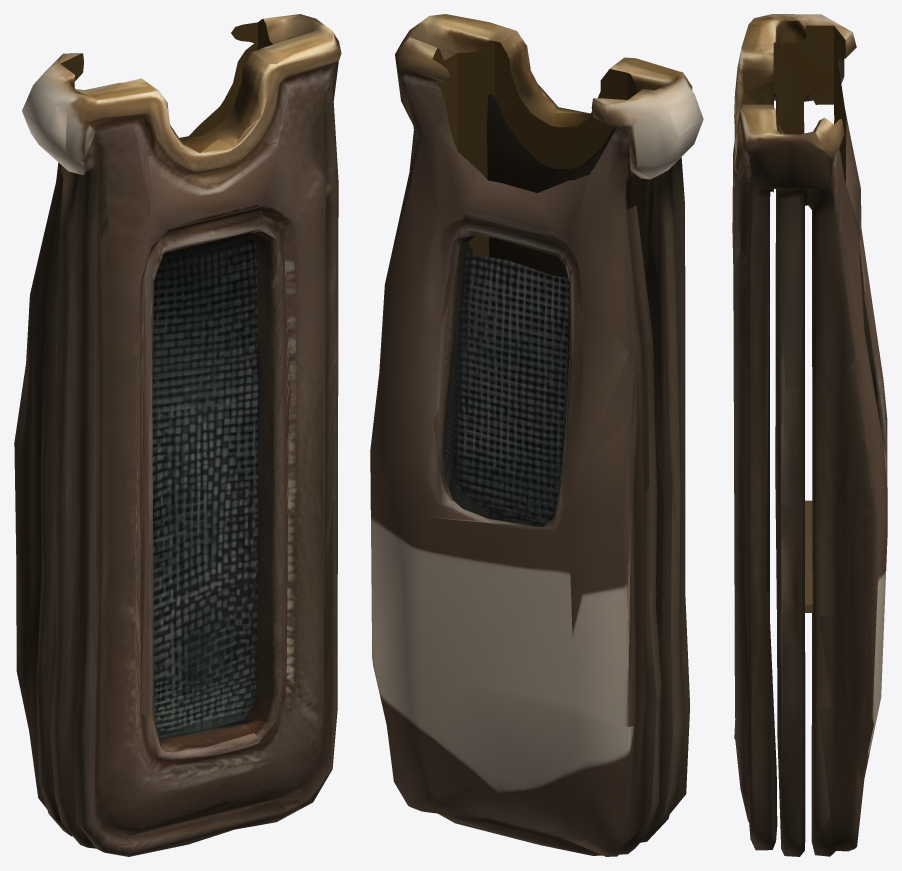
Rendered from FlatSleeve.fbx.
The picture shows the model from 3 angles, left to right: view 1: azimuth 30°, elevation 25°; view 2: azimuth 150°, elevation 25°; view 3: azimuth 270°, elevation 25°; orthographic projection. The views are drawn at different scales.
Visible parts, largest first — view 1: FlatSleeve_LOD0; view 2: FlatSleeve_LOD0; view 3: FlatSleeve_LOD0.
Part boxes in pixels (x1,y1,x2,y2): FlatSleeve_LOD0: (14, 14, 341, 856); FlatSleeve_LOD0: (370, 14, 703, 856); FlatSleeve_LOD0: (732, 14, 887, 856).
Size of what is drawn, in the model's own units: 0.0349 by 0.0899 by 0.017.
Materials: 1 (1 with a texture image).
